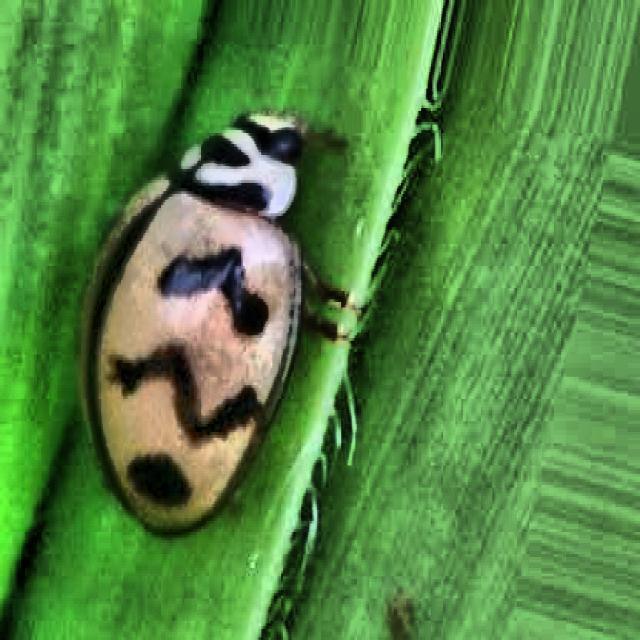Asian-Lady-beetle: (38, 90, 379, 585)
